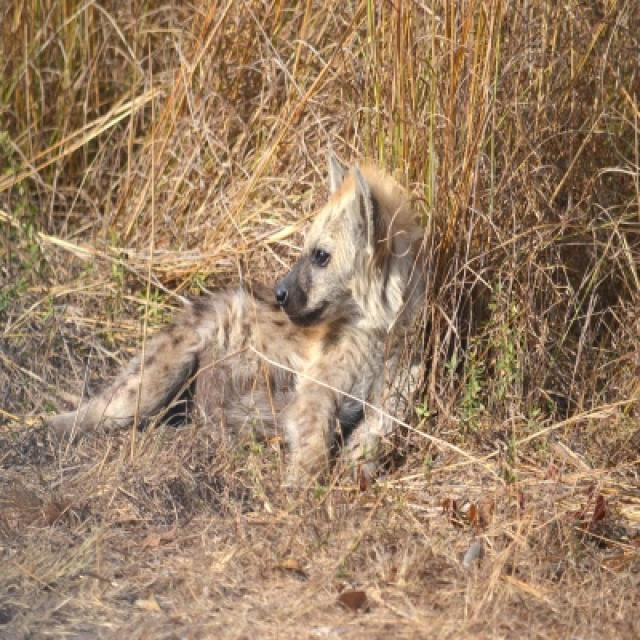hyena: (48, 155, 422, 482)
